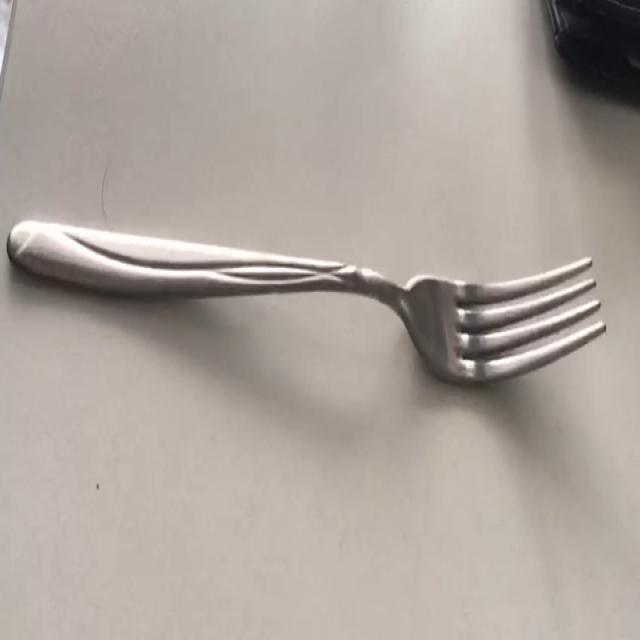spoon: (6, 221, 604, 382)
